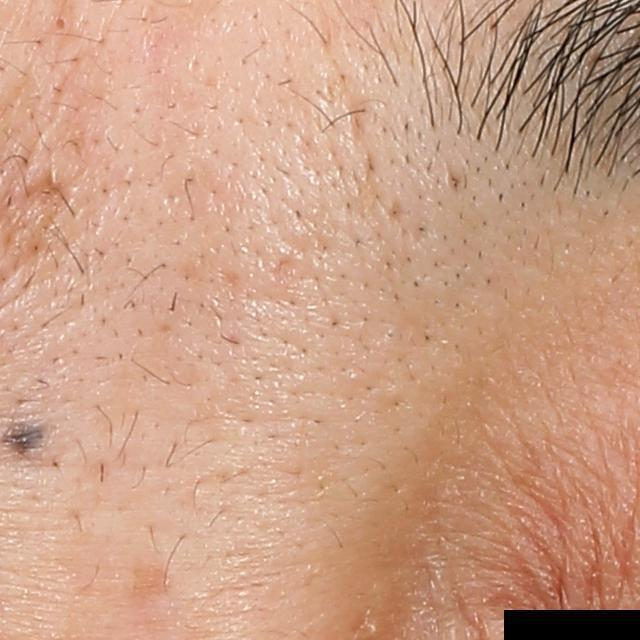atrophic_scar: (21, 172, 80, 234)
comedo: (50, 12, 69, 34)
nevus: (5, 424, 55, 465)
